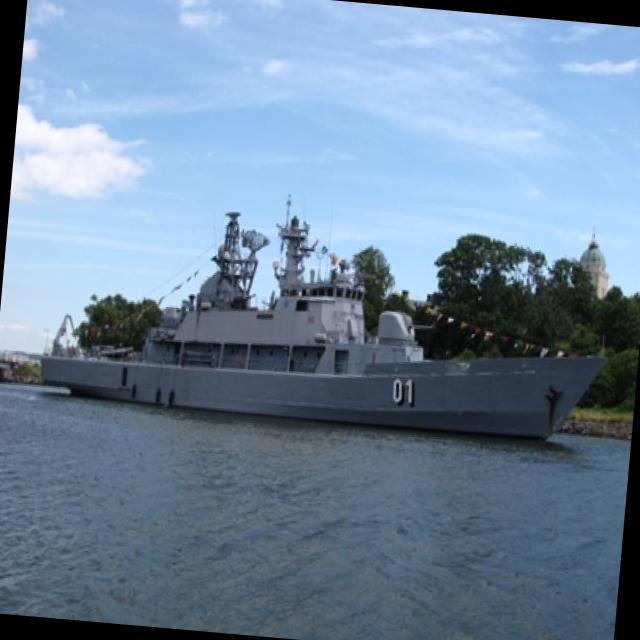Military: (40, 212, 605, 439)
